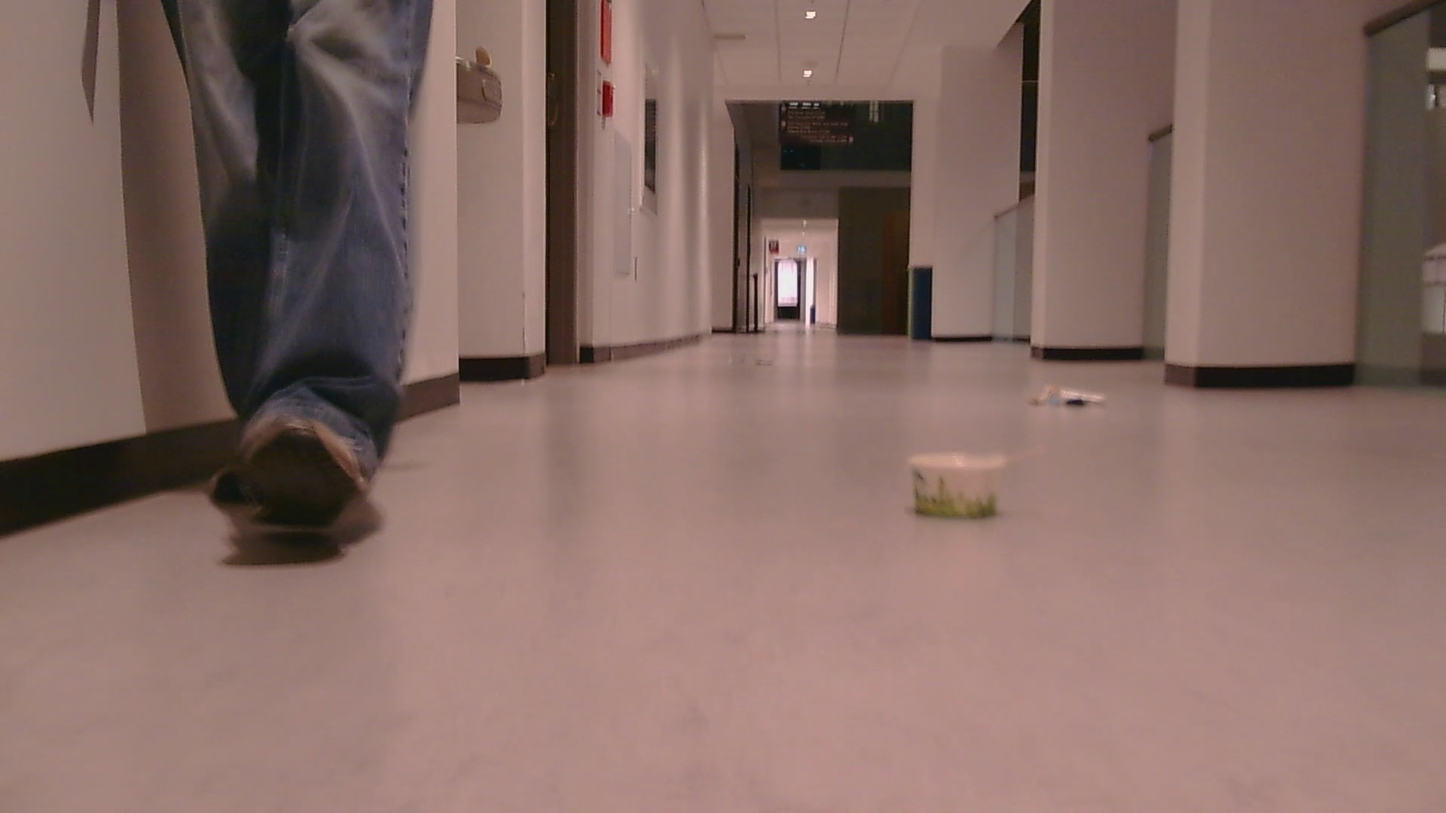carton: (893, 438, 1024, 523), (1032, 364, 1119, 422)
